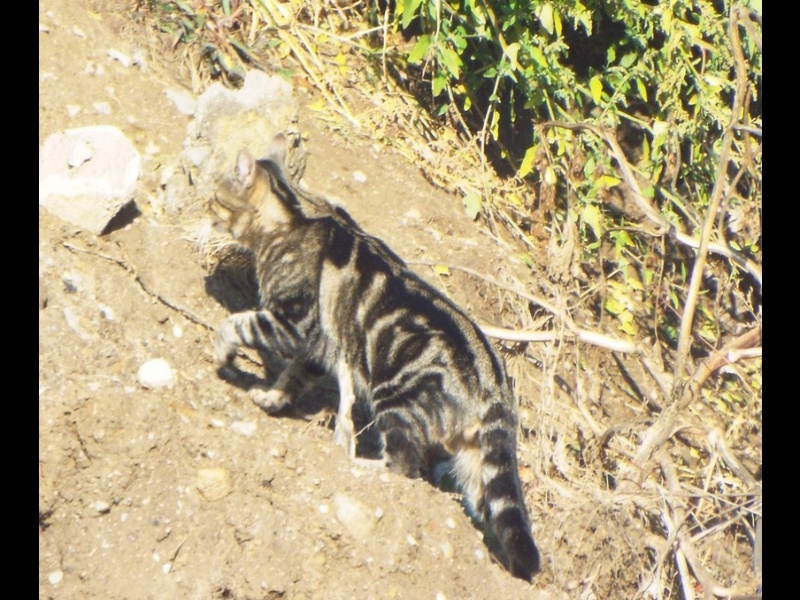cat: (206, 147, 542, 587)
